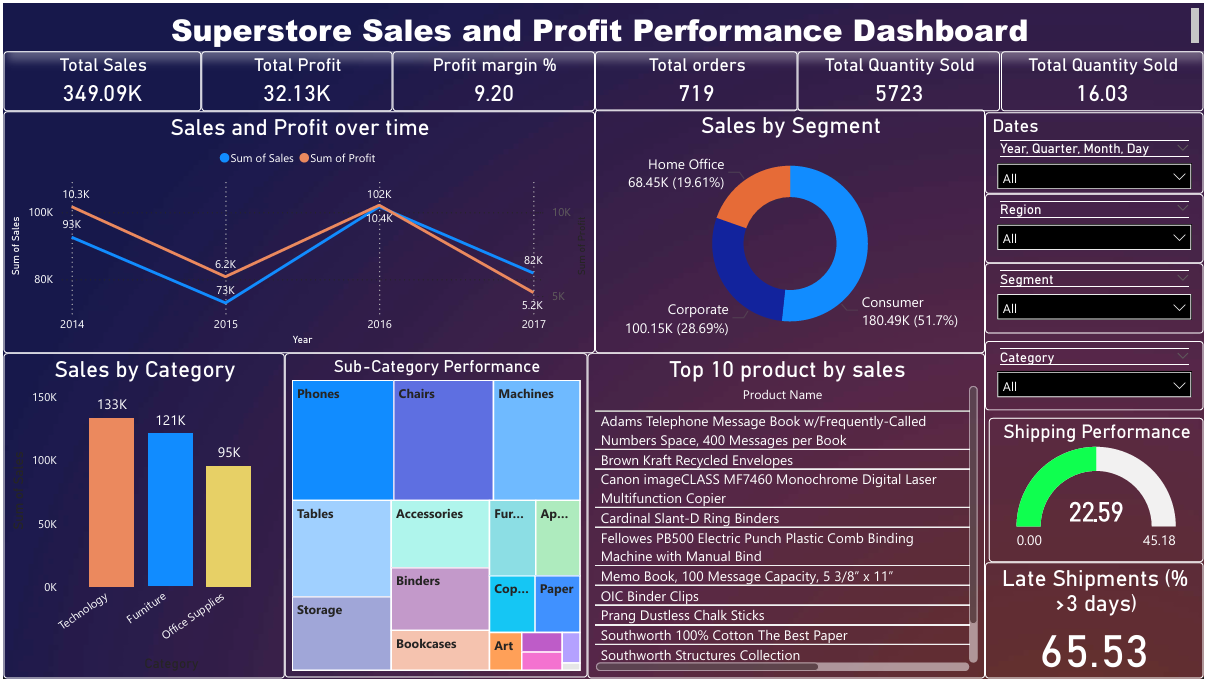

The dashboard page shown, as its layout file describes it:
{"tool":"powerbi","page":{"name":"Page 1","canvas":[1280,720],"ordinal":0},"visuals":[{"type":"textbox","box":[0,0,1280.3,51.3],"z":0},{"type":"card","title":"Total Sales","fields":{"Values":["Sum(Superstore_raw_data.Sales)"]},"box":[0,51.3,210.7,63.5],"z":1000},{"type":"card","title":"Total Profit","fields":{"Values":["Sum(Superstore_raw_data.Profit)"]},"box":[210.7,51.3,203.9,63.5],"z":2000},{"type":"card","title":"Profit margin %","fields":{"Values":["Superstore_raw_data.profitmargin1"]},"box":[414.6,51.3,216.1,63.5],"z":3000},{"type":"card","title":"Total orders","fields":{"Values":["Count(Superstore_raw_data.Order ID)"]},"box":[630.7,51.3,216.1,63.5],"z":4000},{"type":"card","title":"Total Quantity Sold","fields":{"Values":["Sum(Superstore_raw_data.Quantity)"]},"box":[846.8,51.3,216.1,63.5],"z":5000},{"type":"card","title":"Total Quantity Sold","fields":{"Values":["Superstore_raw_data.Average Discount (%)"]},"box":[1064.2,51.3,216.1,63.5],"z":6000},{"type":"lineChart","title":"Sales and Profit over time","fields":{"Category":["Superstore_raw_data.Order Date.Variation.Date Hierarchy.Year","Superstore_raw_data.Order Date.Variation.Date Hierarchy.Month"],"Y":["Sum(Superstore_raw_data.Sales)"],"Y2":["Sum(Superstore_raw_data.Profit)"]},"box":[0,114.8,630.7,257.9],"z":7000},{"type":"donutChart","title":"Sales by Segment","fields":{"Category":["Superstore_raw_data.Segment"],"Y":["Sum(Superstore_raw_data.Sales)"]},"box":[630.7,113.4,416,259.3],"z":8000},{"type":"columnChart","title":"Sales by Category","fields":{"Category":["Superstore_raw_data.Category"],"Y":["Sum(Superstore_raw_data.Sales)"]},"box":[0,372.8,300.4,347.5],"z":9000},{"type":"treemap","title":"Sub-Category Performance","fields":{"Group":["Superstore_raw_data.Sub-Category"],"Values":["Sum(Superstore_raw_data.Sales)"]},"box":[300,372.7,330.7,346.6],"z":10000},{"type":"gauge","title":"Shipping Performance","fields":{"Y":["Avg(Superstore_raw_data.Shipping delay(days))"]},"box":[1046.6,442,233,153.4],"z":11000},{"type":"card","title":"Late Shipments (% >3 days)","fields":{"Values":["Superstore_raw_data.Late Shipments %"]},"box":[1047.2,596,232.8,124.3],"z":12000},{"type":"slicer","title":"Dates","fields":{"Values":["Superstore_raw_data.Order Date.Variation.Date Hierarchy.Year","Superstore_raw_data.Order Date.Variation.Date Hierarchy.Quarter","Superstore_raw_data.Order Date.Variation.Date Hierarchy.Month","Superstore_raw_data.Order Date.Variation.Date Hierarchy.Day"]},"box":[1047.2,115.8,232.8,86.9],"z":13000},{"type":"slicer","title":"Dates","fields":{"Values":["Superstore_raw_data.Region"]},"box":[1047.2,202.7,232.8,74.8],"z":14000},{"type":"slicer","title":"Dates","fields":{"Values":["Superstore_raw_data.Segment"]},"box":[1047.2,277.5,232.8,74.8],"z":15000},{"type":"tableEx","title":"Top 10 product by sales","fields":{"Values":["Superstore_raw_data.Product Name","Sum(Superstore_raw_data.Sales)","Sum(Superstore_raw_data.Profit)","Superstore_raw_data.profitmargin%"]},"box":[630.7,372.7,415.9,347.7],"z":16000},{"type":"slicer","title":"Dates","fields":{"Values":["Superstore_raw_data.Category"]},"box":[1047.7,360.2,231.8,75],"z":17000}]}

Visuals, with their boxes in screenshot pixels (x1, y1, x2, y2), scaled from the page's 1280x720 canvas onto the 1206x682 screenshot:
textbox: {"left": 0, "top": 0, "right": 1205, "bottom": 49}
"Total Sales" card: {"left": 0, "top": 49, "right": 199, "bottom": 109}
"Total Profit" card: {"left": 199, "top": 49, "right": 391, "bottom": 109}
"Profit margin %" card: {"left": 391, "top": 49, "right": 594, "bottom": 109}
"Total orders" card: {"left": 594, "top": 49, "right": 798, "bottom": 109}
"Total Quantity Sold" card: {"left": 798, "top": 49, "right": 1001, "bottom": 109}
"Total Quantity Sold" card: {"left": 1003, "top": 49, "right": 1205, "bottom": 109}
"Sales and Profit over time" lineChart: {"left": 0, "top": 109, "right": 594, "bottom": 353}
"Sales by Segment" donutChart: {"left": 594, "top": 107, "right": 986, "bottom": 353}
"Sales by Category" columnChart: {"left": 0, "top": 353, "right": 283, "bottom": 681}
"Sub-Category Performance" treemap: {"left": 283, "top": 353, "right": 594, "bottom": 681}
"Shipping Performance" gauge: {"left": 986, "top": 419, "right": 1205, "bottom": 564}
"Late Shipments (% >3 days)" card: {"left": 987, "top": 565, "right": 1205, "bottom": 681}
"Dates" slicer: {"left": 987, "top": 110, "right": 1205, "bottom": 192}
"Dates" slicer: {"left": 987, "top": 192, "right": 1205, "bottom": 263}
"Dates" slicer: {"left": 987, "top": 263, "right": 1205, "bottom": 334}
"Top 10 product by sales" tableEx: {"left": 594, "top": 353, "right": 986, "bottom": 681}
"Dates" slicer: {"left": 987, "top": 341, "right": 1205, "bottom": 412}
